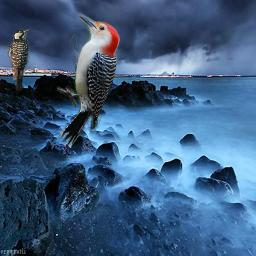Woodpecker: (57, 14, 120, 148), (3, 29, 31, 94)
